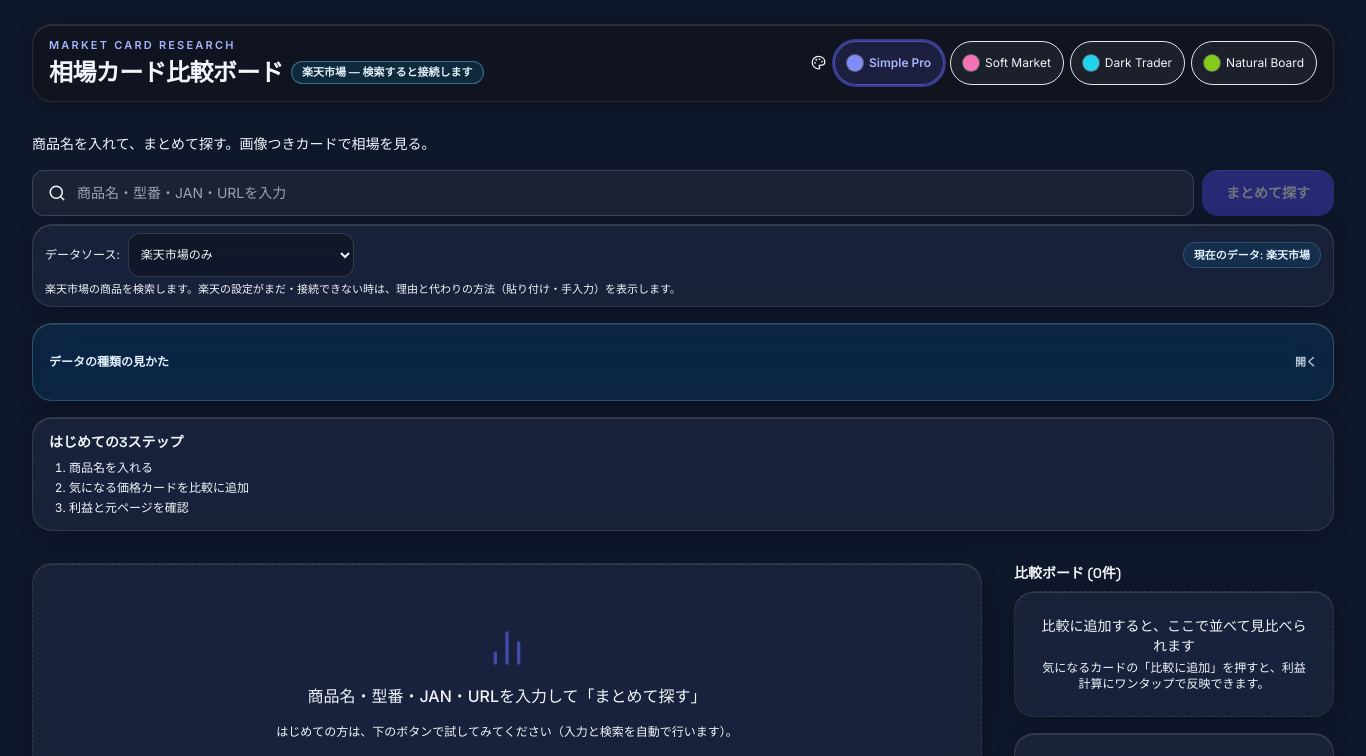
Test: AppShell › switches to the green 公式データ取得中 badge after a search resolves with status=official_api
Type "PS5" into the field labelled "商品名・型番・JAN・URL" at (613, 193), box [32, 170, 1194, 216]
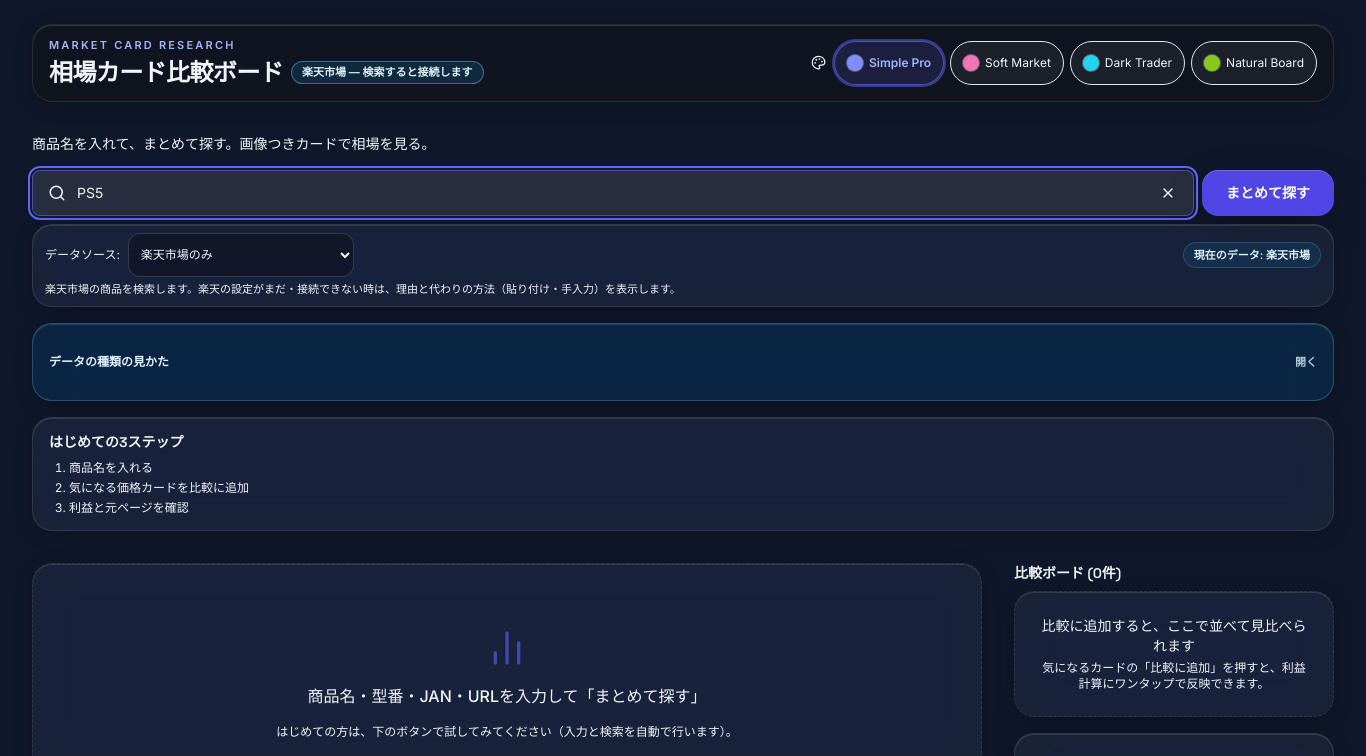
Click the button "まとめて探す" at (1268, 193), box [1202, 170, 1334, 216]
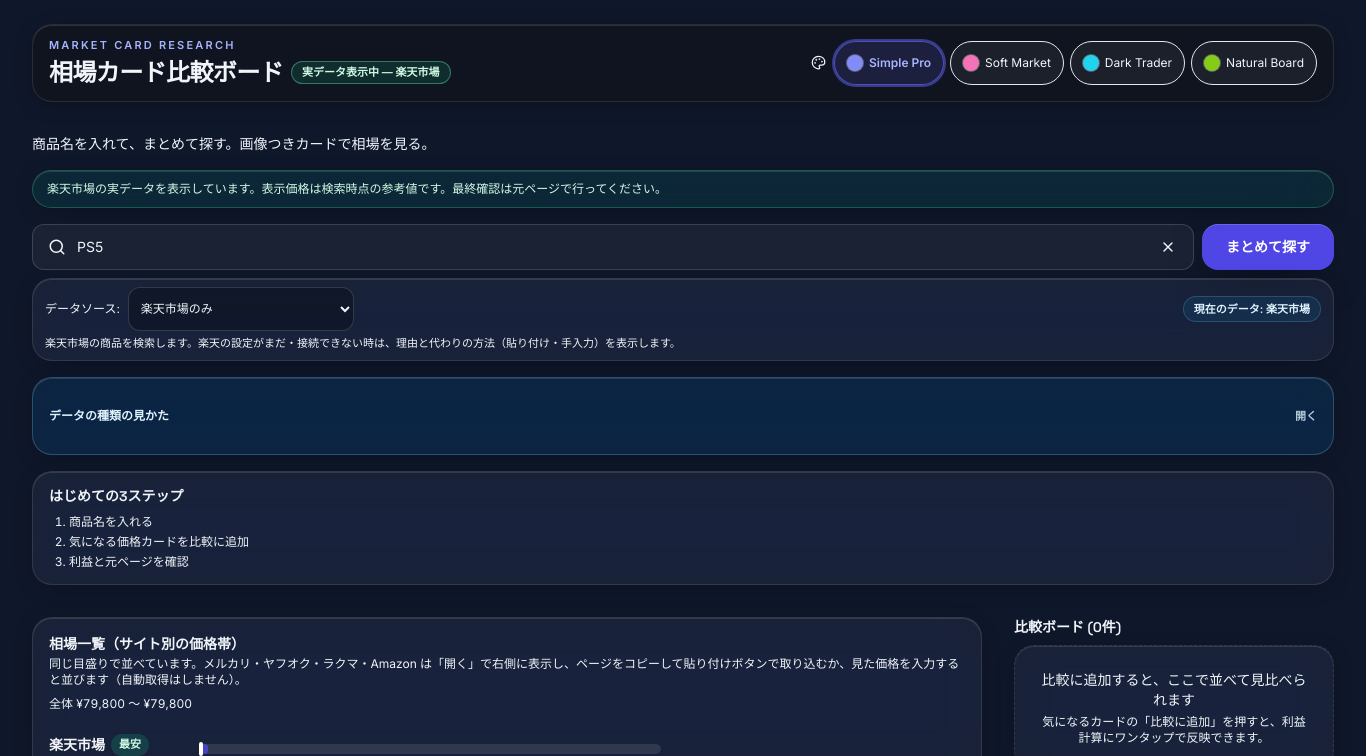
Check: the text "実データ表示中 — 楽天市場" is shown, box [291, 61, 450, 84]
